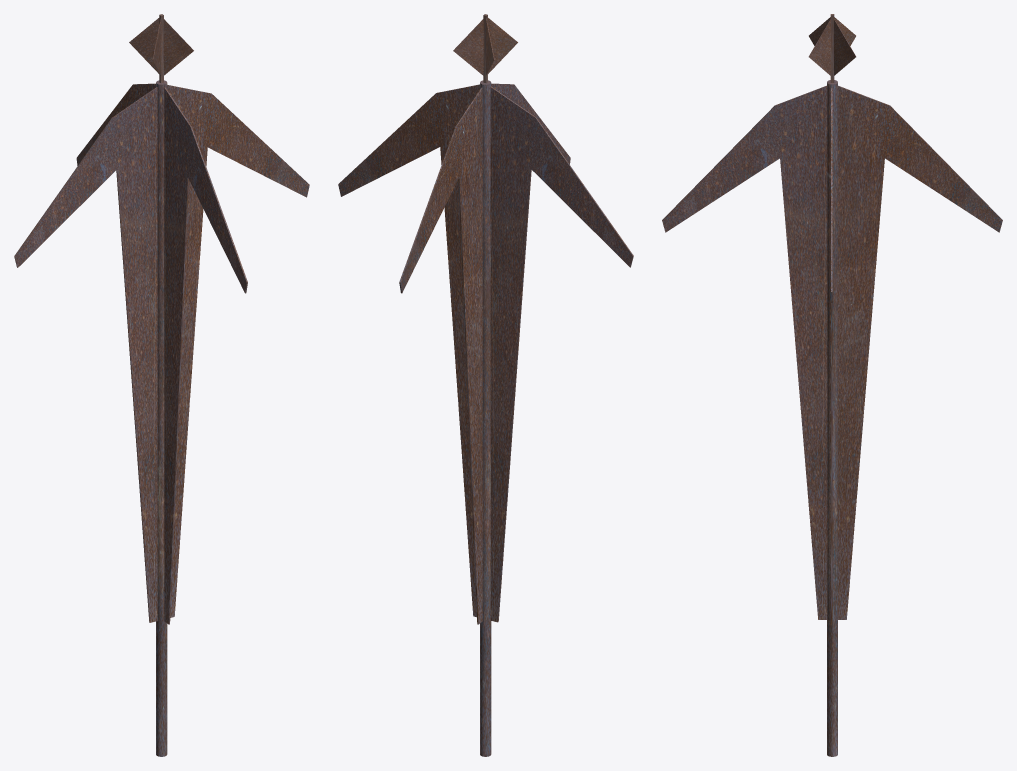
File: designator6.obj
The picture shows the model from 3 angles, left to right: view 1: azimuth 30°, elevation 25°; view 2: azimuth 150°, elevation 25°; view 3: azimuth 270°, elevation 25°; orthographic projection.
Parts seen in each view (by area): view 1: telo1, telo2, tyc, hlava2; view 2: telo1, telo2, tyc, hlava3; view 3: telo2, tyc, telo1, hlava2, hlava3.
Part boxes in pixels (box(x1,y1,x2,y2)): telo1: box(14, 85, 309, 622); telo2: box(76, 83, 247, 624); tyc: box(156, 80, 167, 756); hlava2: box(129, 18, 193, 75); telo1: box(338, 84, 633, 622); telo2: box(399, 83, 570, 624); tyc: box(480, 80, 491, 756); hlava3: box(453, 17, 517, 75); telo2: box(662, 85, 1002, 619); tyc: box(827, 80, 837, 756); telo1: box(831, 87, 832, 625); hlava2: box(808, 17, 855, 75); hlava3: box(809, 17, 856, 75).
Size of the model in its own units: 1.25 by 2.99 by 1.25.
